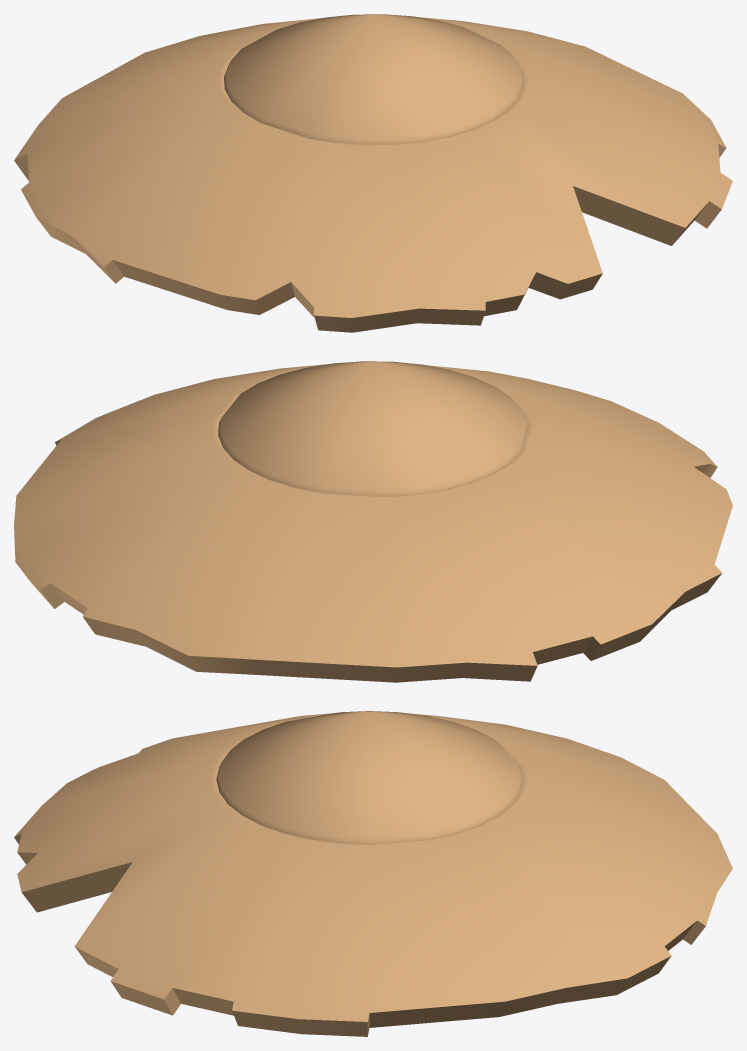
File: strawhat.gltf.glb
The picture shows the model from 3 angles, top to bottom: view 1: azimuth 30°, elevation 25°; view 2: azimuth 150°, elevation 25°; view 3: azimuth 270°, elevation 25°; orthographic projection. The views are drawn at different scales.
Parts seen in each view (by area): view 1: strawhat; view 2: strawhat; view 3: strawhat.
Part boxes in pixels (x1,y1,x2,y2): strawhat: (14, 14, 732, 332); strawhat: (14, 361, 732, 682); strawhat: (14, 711, 732, 1036).
Size of the model in its own units: 1.78 by 0.4914 by 1.77.
